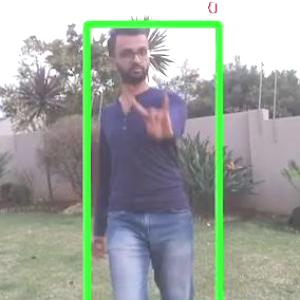takeoff-hand: (126, 82, 180, 148)
